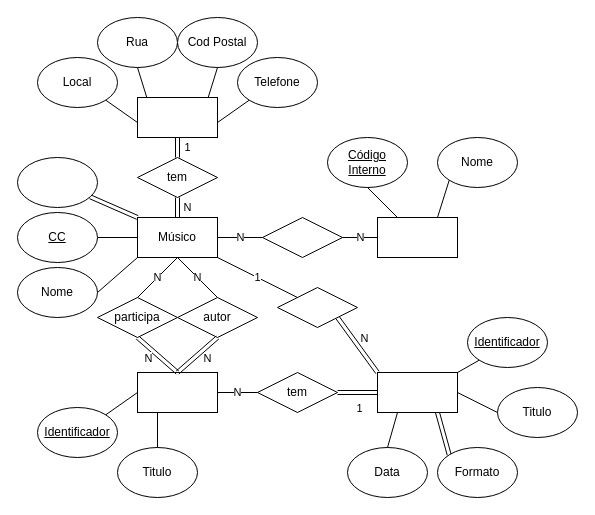
Image size: 595x515. Some labels were removed from this diagram. Here are the shapes that lost their labels. From the top down, the centre of each, then its label:
At point 177,117: "Morada".
At point 57,182: "Telemóvel".
At point 302,237: "toca".
At point 417,237: "Instrumento".
At point 317,307: "produz".
At point 177,392: "Música".
At point 417,392: "Disco".
